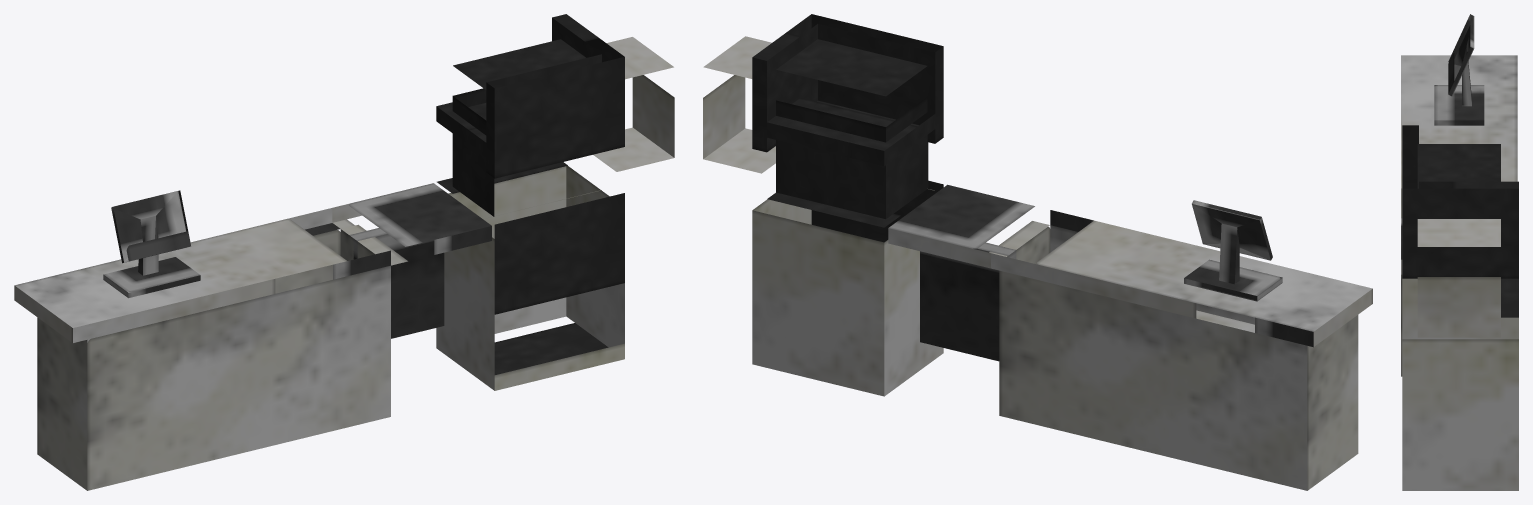
The model's file is cashier stand.fbx.
The picture shows the model from 3 angles, left to right: view 1: azimuth 30°, elevation 25°; view 2: azimuth 150°, elevation 25°; view 3: azimuth 270°, elevation 25°; orthographic projection.
Visible parts, largest first — view 1: main stand, gum stand, computer, hanging items, bags, gums2, gums1; view 2: main stand, gum stand, gums1, bags, gums2, computer, hanging items; view 3: gum stand, main stand, hanging items, computer, gums2.
Boxes of the visible parts, left/top/right/bottom form: main stand: left=14, top=183, right=491, bottom=490; gum stand: left=436, top=14, right=624, bottom=390; computer: left=103, top=190, right=200, bottom=298; hanging items: left=593, top=37, right=674, bottom=171; bags: left=349, top=228, right=444, bottom=338; gums2: left=452, top=39, right=585, bottom=135; gums1: left=452, top=133, right=494, bottom=216; main stand: left=888, top=184, right=1372, bottom=490; gum stand: left=752, top=14, right=943, bottom=396; gums1: left=776, top=135, right=928, bottom=219; bags: left=920, top=242, right=1016, bottom=361; gums2: left=776, top=39, right=927, bottom=142; computer: left=1184, top=200, right=1282, bottom=301; hanging items: left=703, top=36, right=775, bottom=173; gum stand: left=1402, top=125, right=1518, bottom=490; main stand: left=1401, top=55, right=1517, bottom=376; hanging items: left=1417, top=219, right=1500, bottom=337; computer: left=1434, top=14, right=1484, bottom=125; gums2: left=1417, top=144, right=1500, bottom=188.
Size of the model in its own units: 264 by 125 by 44.17.
